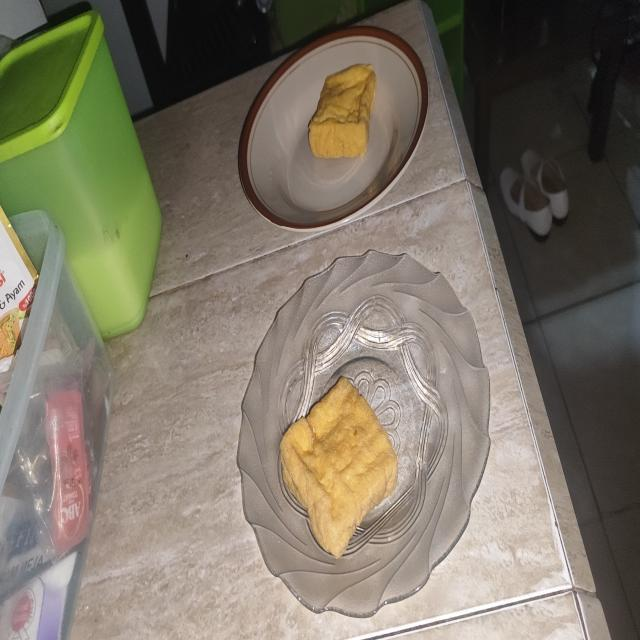tahu_goreng: (280, 377, 398, 558), (308, 64, 376, 158)
